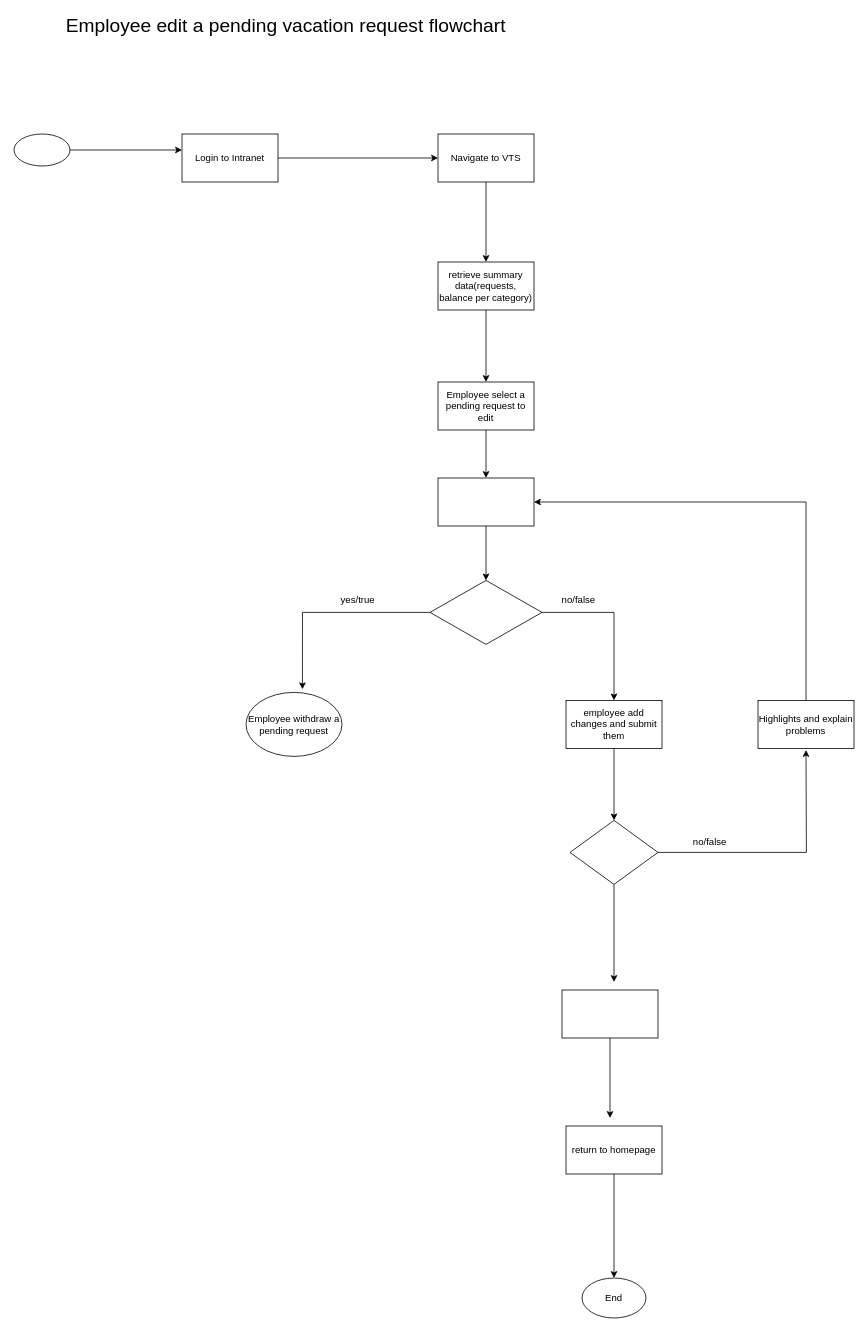
Image size: 868x1332. Some labels were removed from this diagram. The centre of each missing label's shape, as x and y in pixels:
changes valid ?: the point at 613,852
start: the point at 41,149
update info in DB: the point at 609,1013
VTS display an editable view: the point at 485,501
Withdraw request ?: the point at 485,612
